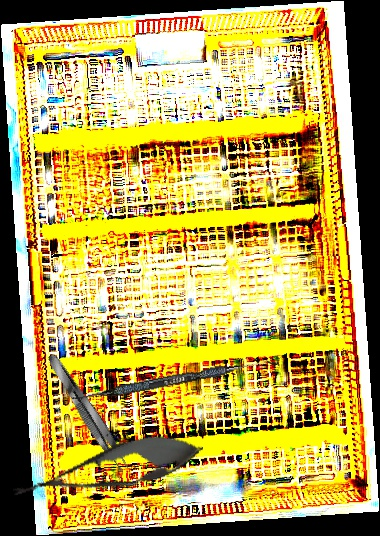Micro Scissor: (8, 422, 208, 516)
Spatula Surgical: (71, 352, 279, 408)
Tissue Forceps: (42, 350, 134, 475)
